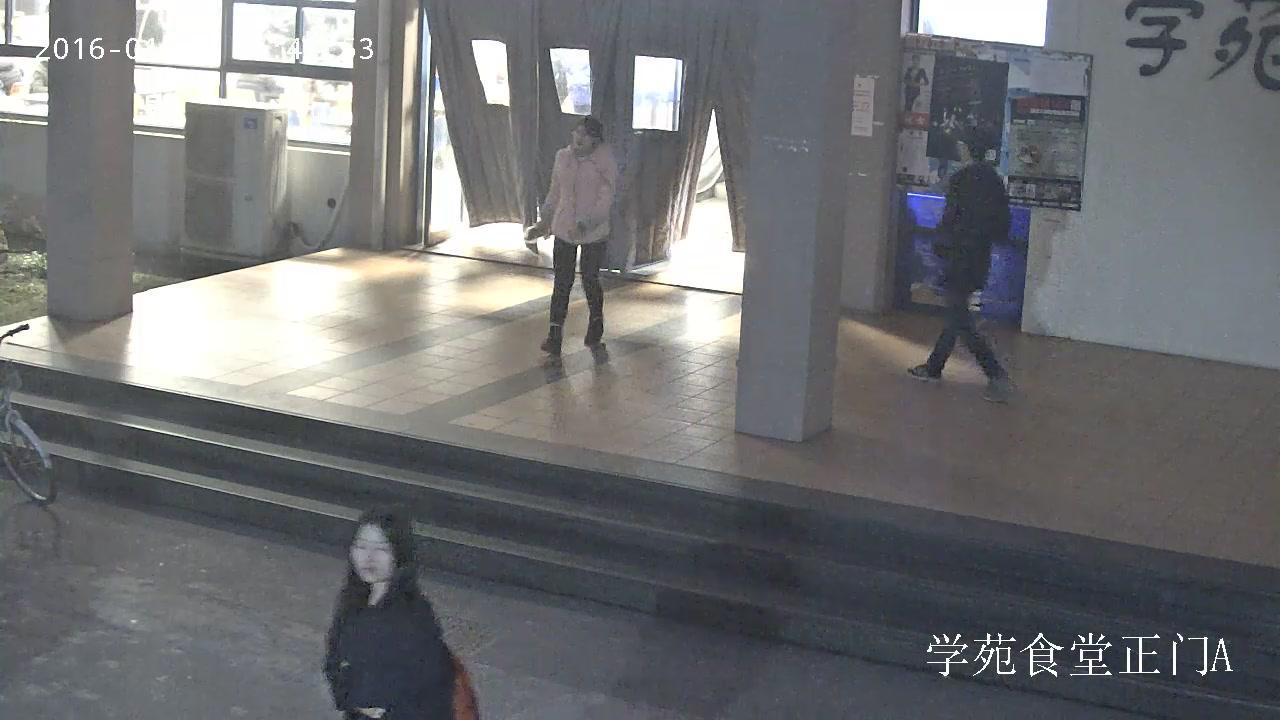person: (321, 508, 479, 720), (904, 128, 1012, 401), (540, 116, 618, 357), (903, 54, 930, 113)
